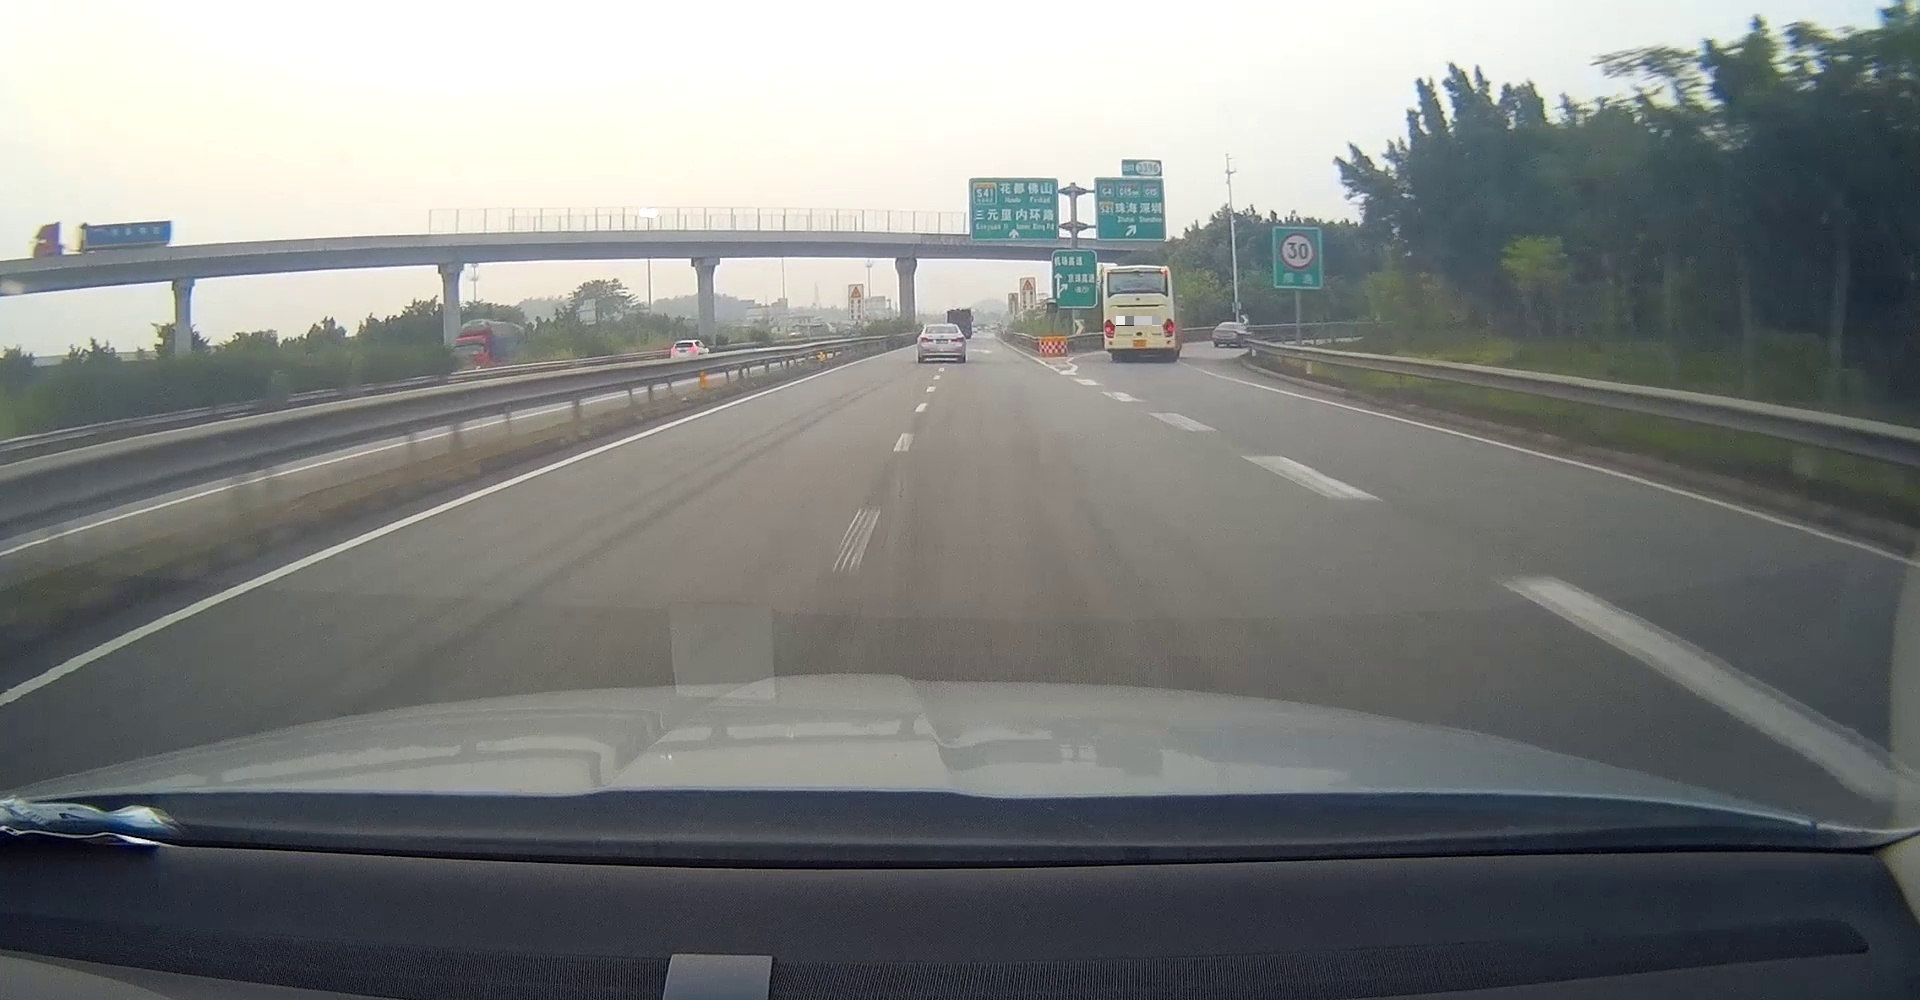L_light: (1103, 319, 1115, 338), (921, 338, 933, 343), (670, 348, 676, 354)
R_light: (1162, 319, 1175, 336), (950, 336, 964, 341), (690, 346, 696, 353)
T_light: (1124, 287, 1148, 291), (938, 326, 947, 327)
day-no: (1102, 266, 1175, 363), (919, 324, 965, 363), (670, 340, 697, 364)
plate_1: (1116, 316, 1161, 326)
